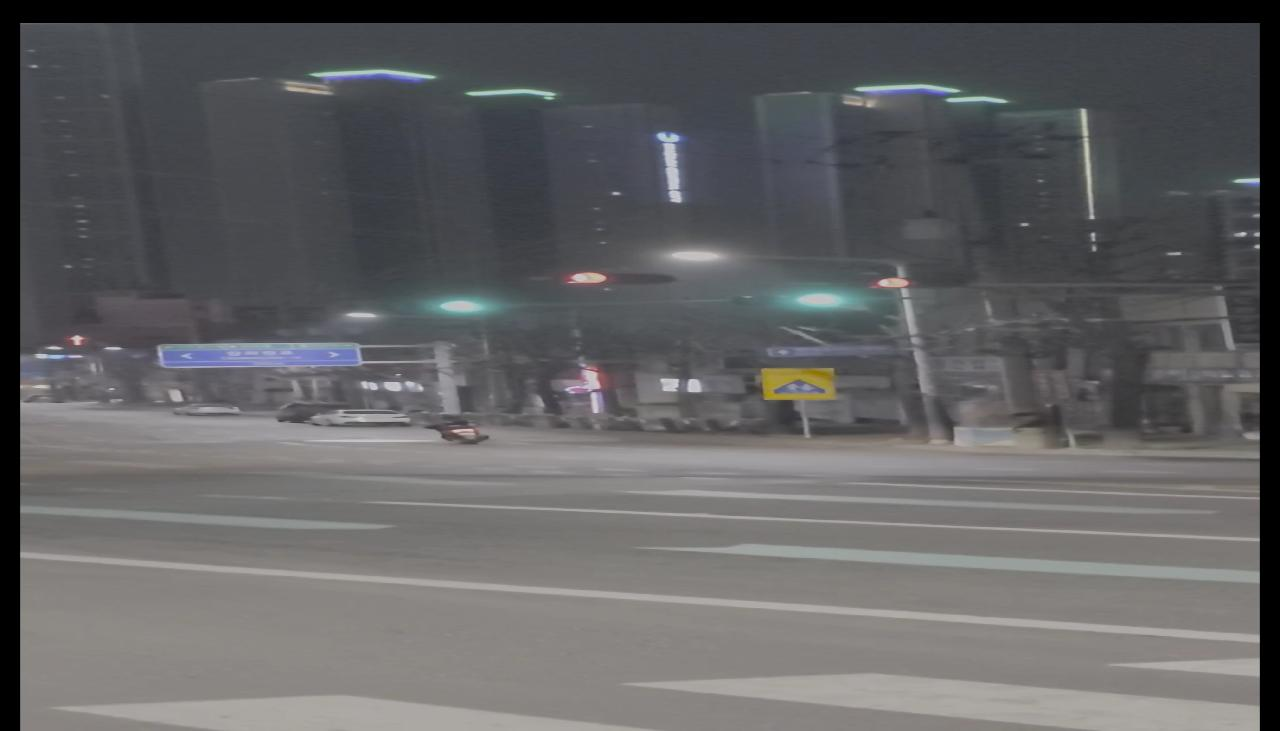Green Light: (793, 293, 859, 308), (439, 299, 489, 312)
Red Light: (558, 270, 612, 285), (867, 277, 917, 289)
